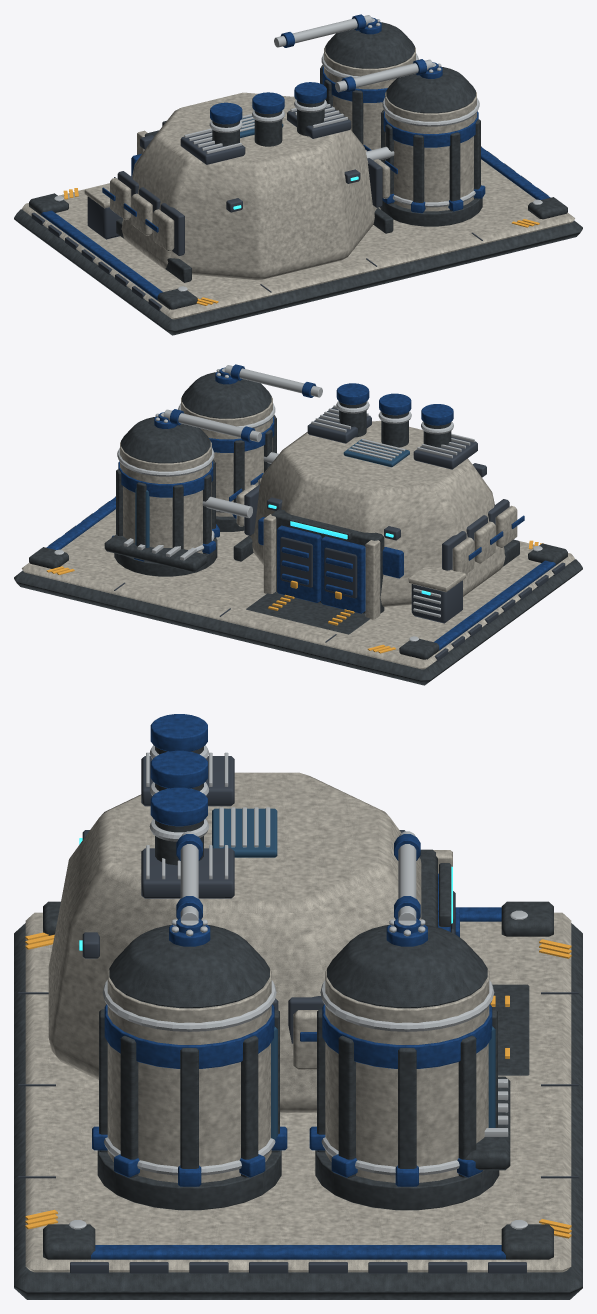
Rendered from solis_raffinerie_solaire.gltf.
The picture shows the model from 3 angles, top to bottom: view 1: azimuth 30°, elevation 25°; view 2: azimuth 150°, elevation 25°; view 3: azimuth 270°, elevation 25°; orthographic projection. The views are drawn at different scales.
Parts seen in each view (by area): view 1: Building.002_Geometry; view 2: Building.002_Geometry, Door_0_L.001_Geometry, Door_0_R.001_Geometry, Conveyor_0_Geometry; view 3: Building.002_Geometry, Conveyor_0_Geometry.
Part boxes in pixels (left/top/right/bottom): Building.002_Geometry: left=14, top=14, right=582, bottom=335; Building.002_Geometry: left=14, top=364, right=582, bottom=685; Door_0_L.001_Geometry: left=321, top=536, right=365, bottom=613; Door_0_R.001_Geometry: left=277, top=525, right=321, bottom=602; Conveyor_0_Geometry: left=104, top=534, right=207, bottom=572; Building.002_Geometry: left=14, top=714, right=582, bottom=1299; Conveyor_0_Geometry: left=465, top=1076, right=510, bottom=1170.
Bounding box in the file's own units: 5.92 × 2.33 × 3.92.
Materials: 9 (3 with a texture image).
